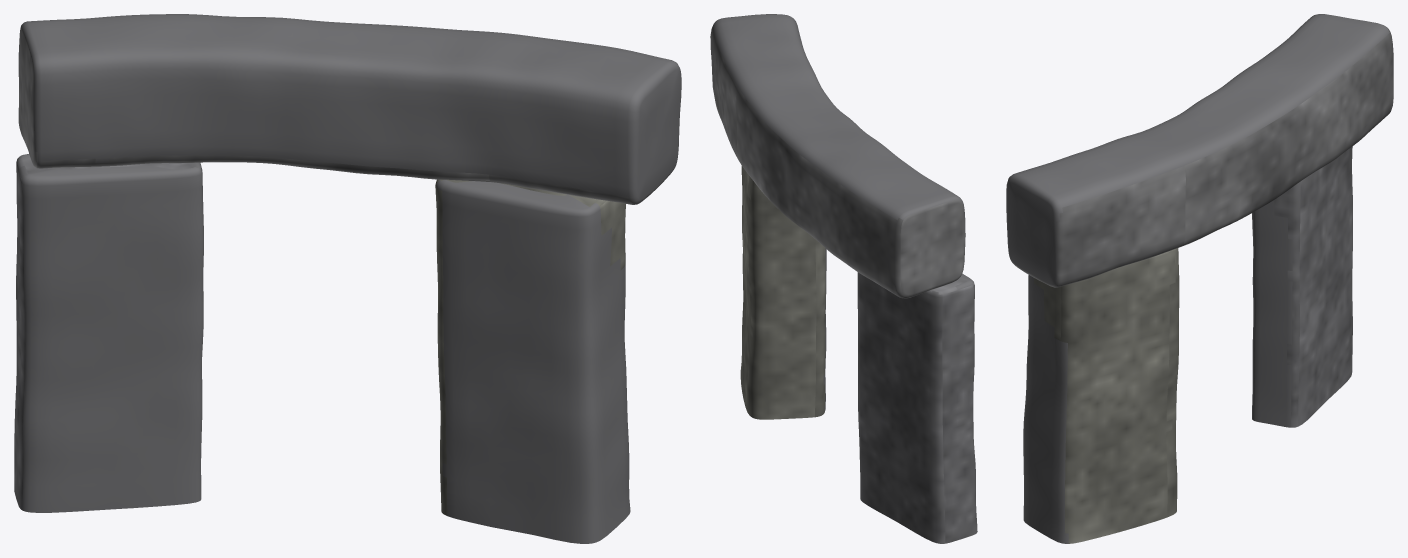
Rendered from AraHenge02.glb.
3 renders of one model, left to right at view 1: azimuth 30°, elevation 25°; view 2: azimuth 150°, elevation 25°; view 3: azimuth 270°, elevation 25°, orthographic. The views are drawn at different scales.
Parts seen in each view (by area): view 1: AraHenge02; view 2: AraHenge02; view 3: AraHenge02.
Boxes of the visible parts, x1,y1,x2,y2 form: AraHenge02: [14, 14, 681, 543]; AraHenge02: [710, 14, 977, 543]; AraHenge02: [1006, 14, 1393, 543].
Size of the model in its own units: 4.01 by 3.4 by 3.3.
Materials: 2 (1 with a texture image).
